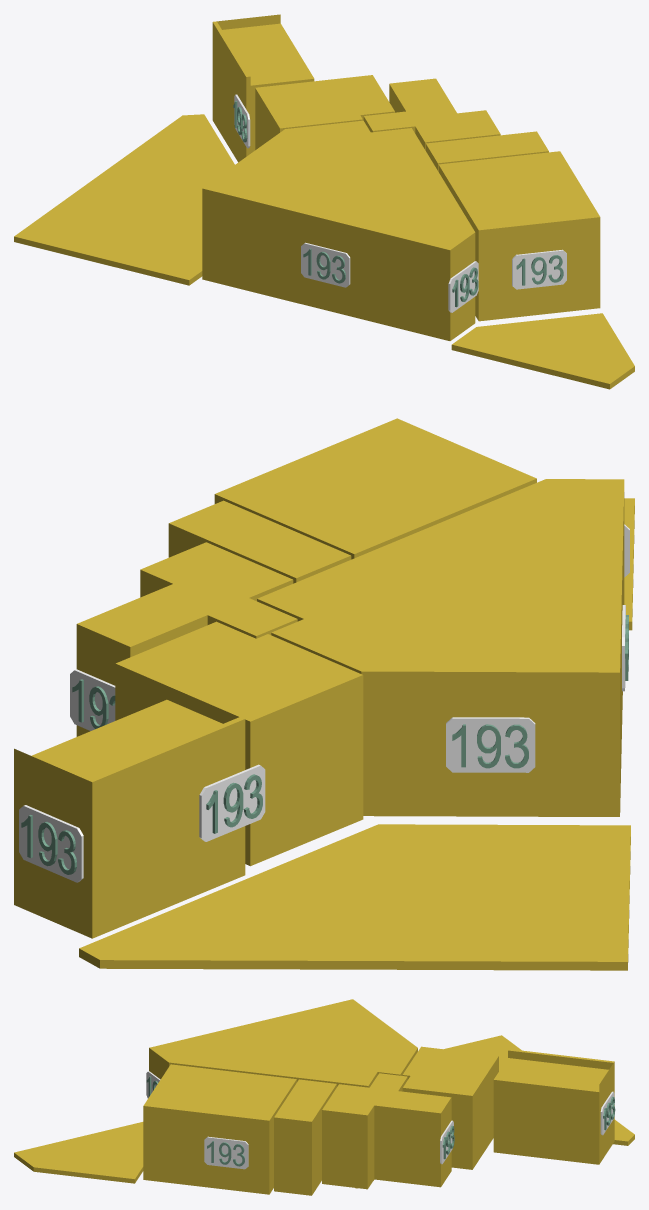
The picture shows the model from 3 angles, top to bottom: view 1: azimuth 30°, elevation 25°; view 2: azimuth 150°, elevation 25°; view 3: azimuth 270°, elevation 25°; orthographic projection. The views are drawn at different scales.
Visible parts, largest first — view 1: g_0, g_7, g_1, g_6, g_5, g_4, g_3, g_2, g_11, g_19, g_27; view 2: g_0, g_7, g_5, g_4, g_1, g_3, g_2, g_15, g_23, g_39, g_31, g_6; view 3: g_1, g_0, g_3, g_5, g_4, g_2, g_6, g_7, g_35.
Part boxes in pixels (x1,y1,x2,y2): g_0: (202, 120, 475, 340); g_7: (14, 114, 234, 285); g_1: (438, 151, 600, 321); g_6: (451, 313, 634, 389); g_5: (212, 14, 314, 162); g_4: (255, 75, 394, 149); g_3: (363, 78, 500, 150); g_2: (425, 131, 548, 171); g_11: (512, 249, 566, 289); g_19: (301, 242, 350, 287); g_27: (448, 261, 478, 312); g_0: (257, 479, 624, 816); g_7: (79, 824, 630, 970); g_5: (14, 699, 245, 938); g_4: (115, 621, 363, 866); g_1: (214, 418, 536, 559); g_3: (76, 542, 297, 736); g_2: (168, 500, 351, 583); g_15: (446, 717, 535, 772); g_23: (199, 764, 265, 841); g_39: (19, 805, 83, 882); g_31: (70, 669, 115, 730); g_6: (624, 498, 634, 630); g_1: (143, 1064, 296, 1194); g_0: (149, 999, 417, 1087); g_3: (322, 1073, 451, 1189); g_5: (493, 1049, 614, 1164); g_4: (402, 1046, 498, 1169); g_2: (274, 1079, 336, 1195); g_6: (14, 1122, 143, 1183); g_7: (444, 1035, 634, 1145); g_35: (204, 1136, 248, 1169).
Bounding box in the file's own units: 11.64 × 2.85 × 18.98.
